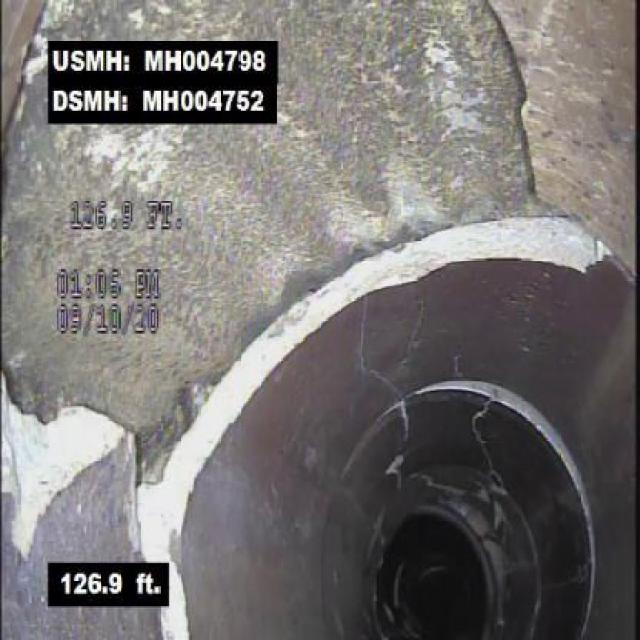Buckling: (0, 363, 146, 562)
Crack: (480, 0, 542, 205)
Joint offset: (210, 211, 616, 338), (149, 337, 285, 638)
